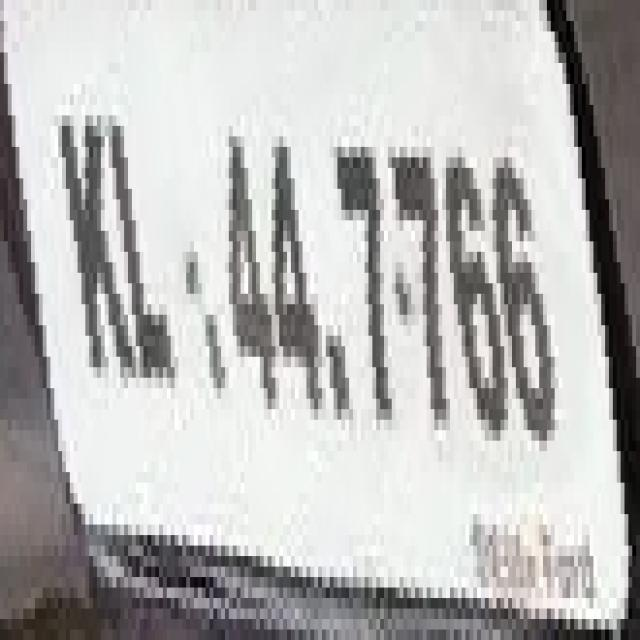license_plate: (27, 0, 640, 556)
